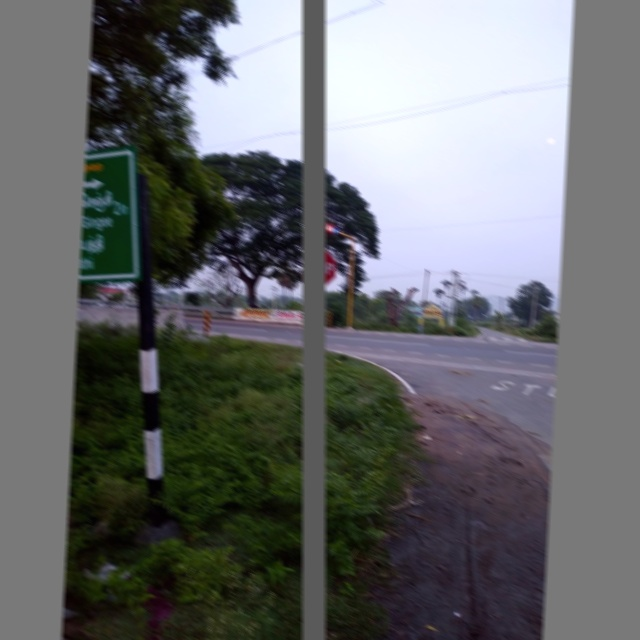Stop: (299, 248, 337, 287)
